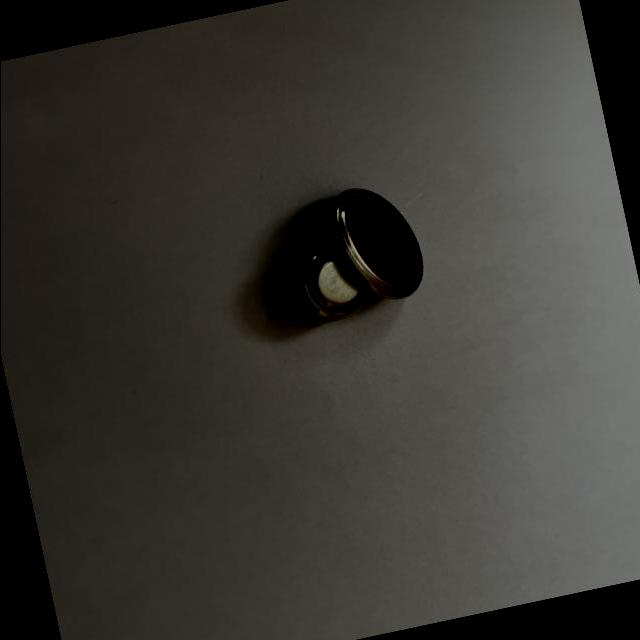COIN: (323, 176, 430, 310), (264, 240, 372, 332)
